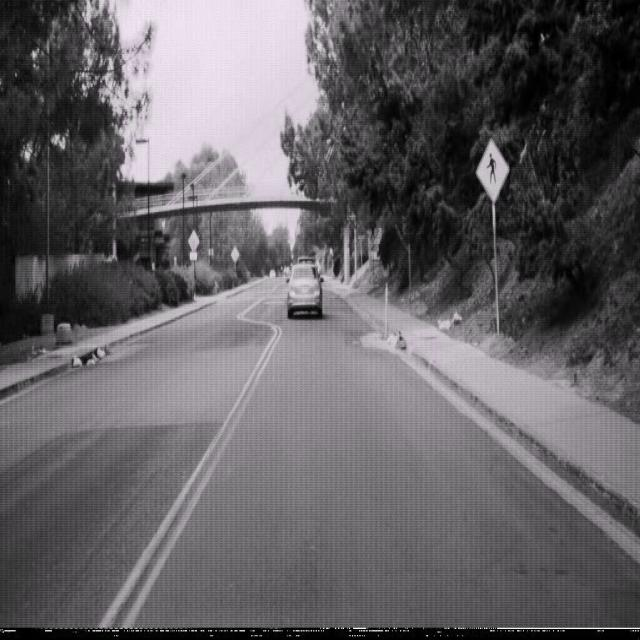pedestrianCrossing: (476, 136, 510, 204)
